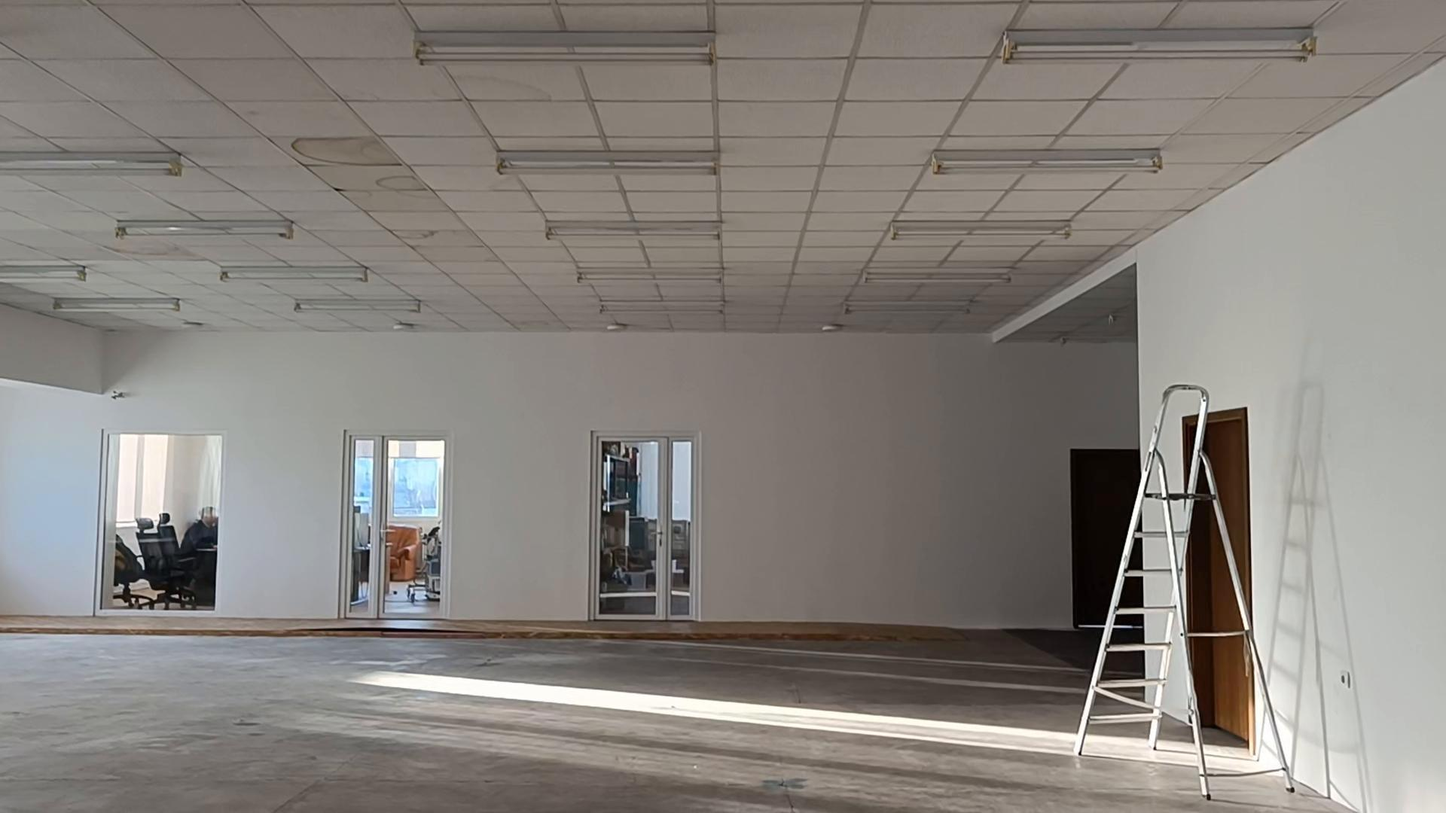ceiling: (0, 0, 1445, 331)
floor: (0, 626, 1335, 812)
wall: (0, 331, 1140, 625), (997, 69, 1442, 812), (0, 309, 109, 390)
